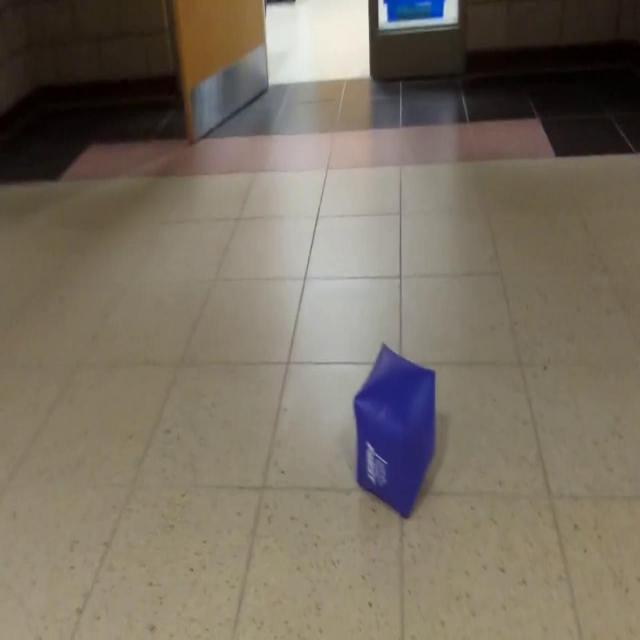frc_cube: (353, 340, 435, 516)
